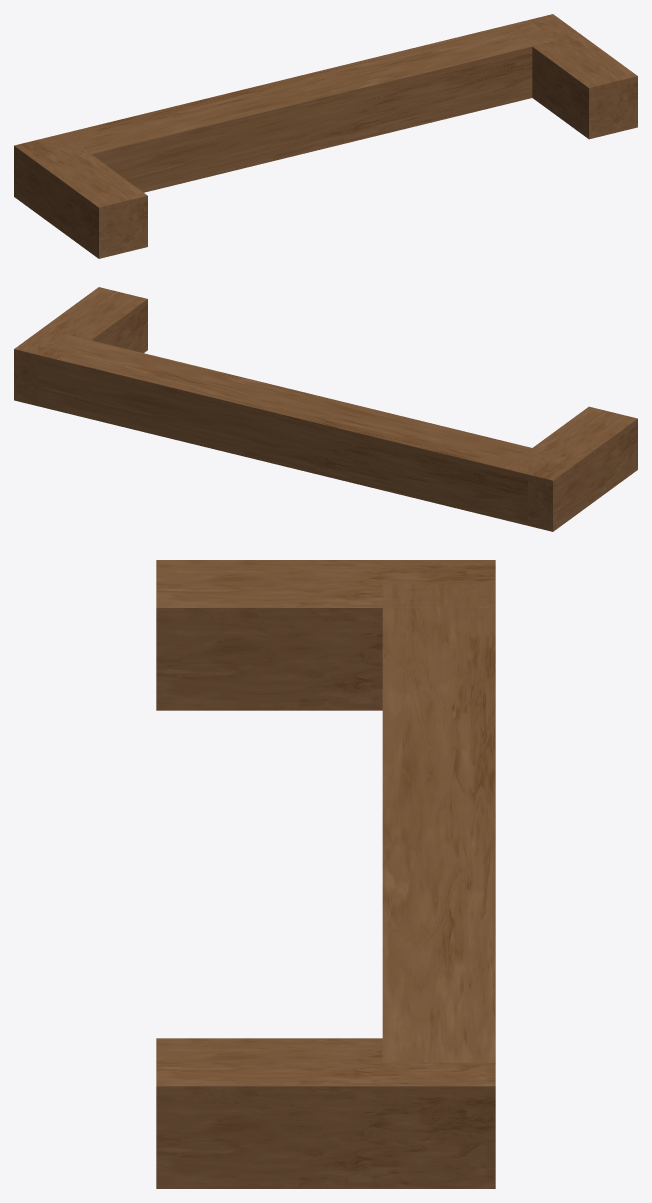
Rendered from uobject.obj.
The picture shows the model from 3 angles, top to bottom: view 1: azimuth 30°, elevation 25°; view 2: azimuth 150°, elevation 25°; view 3: azimuth 270°, elevation 25°; orthographic projection. The views are drawn at different scales.
Size of the model in its own units: 11 by 1 by 3.
Materials: 1 (1 with a texture image).
